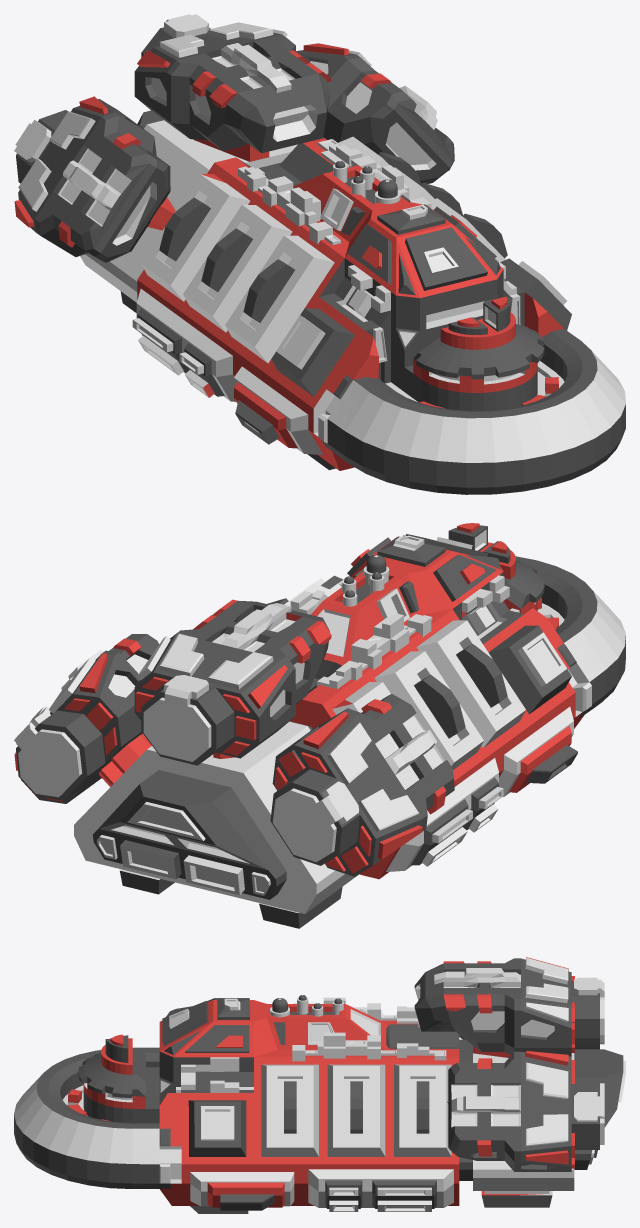
File: SlowEnemy.fbx
The picture shows the model from 3 angles, top to bottom: view 1: azimuth 30°, elevation 25°; view 2: azimuth 150°, elevation 25°; view 3: azimuth 270°, elevation 25°; orthographic projection. The views are drawn at different scales.
Visible parts, largest first — view 1: Carier; view 2: Carier; view 3: Carier.
Part boxes in pixels (x1,y1,x2,y2): Carier: [14, 14, 625, 494]; Carier: [14, 523, 625, 928]; Carier: [14, 957, 625, 1213].
Bounding box in the file's own units: 3003 × 1874 × 5123.
